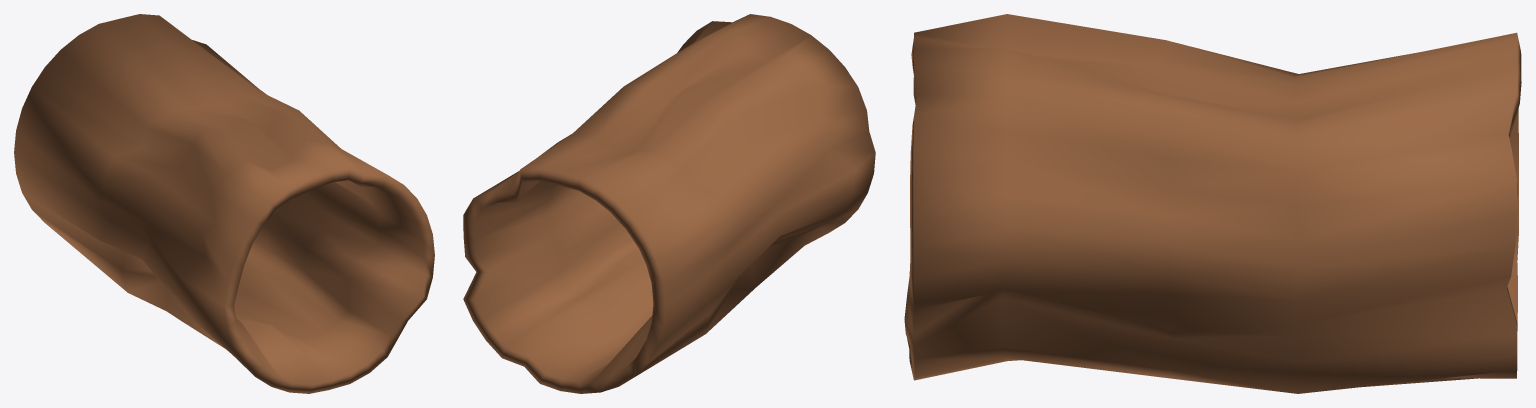
The model's file is log2.fbx.
3 renders of one model, left to right at view 1: azimuth 30°, elevation 25°; view 2: azimuth 150°, elevation 25°; view 3: azimuth 270°, elevation 25°, orthographic. The views are drawn at different scales.
Parts seen in each view (by area): view 1: Log2; view 2: Log2; view 3: Log2.
Part boxes in pixels (x1=…): Log2: x1=14, y1=14, x2=434, y2=393; Log2: x1=463, y1=14, x2=875, y2=393; Log2: x1=904, y1=14, x2=1521, y2=393.
Size of the model in its own units: 36.53 by 37.85 by 61.7.
